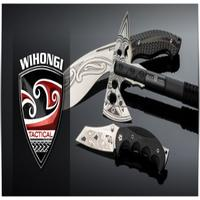knife: (53, 16, 187, 106), (68, 118, 180, 183)
